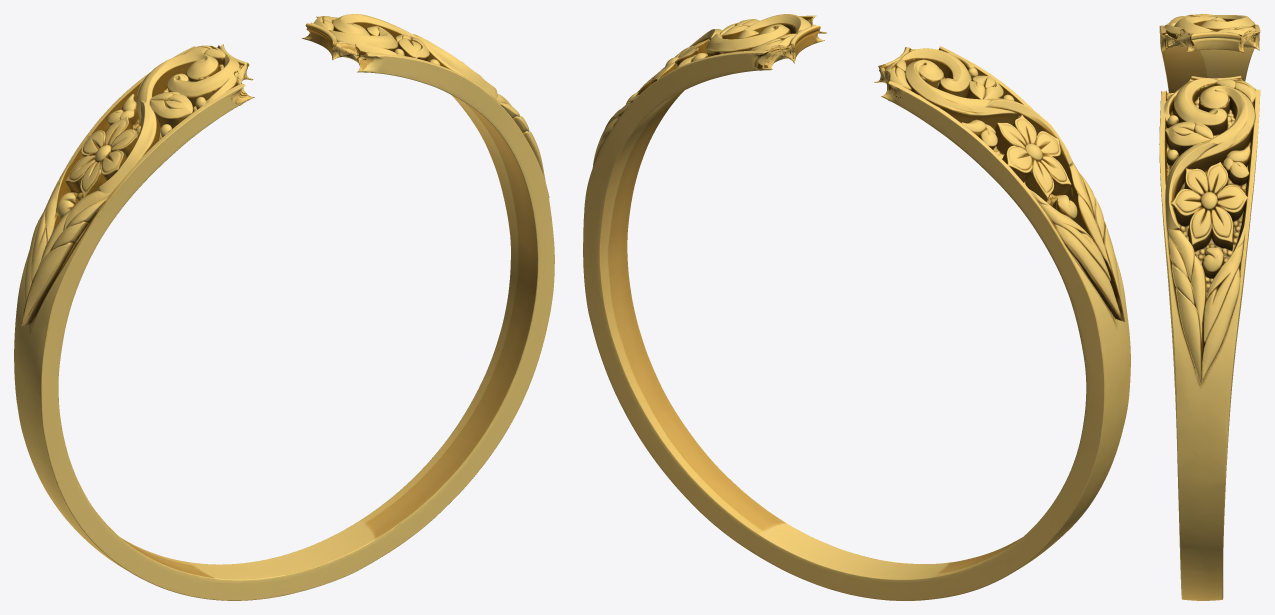
The model's file is nodiamond6.glb.
3 renders of one model, left to right at view 1: azimuth 30°, elevation 25°; view 2: azimuth 150°, elevation 25°; view 3: azimuth 270°, elevation 25°, orthographic. The views are drawn at different scales.
Size of the model in its own units: 1.9 by 1.87 by 0.3281.
1 material, 1 textured.
